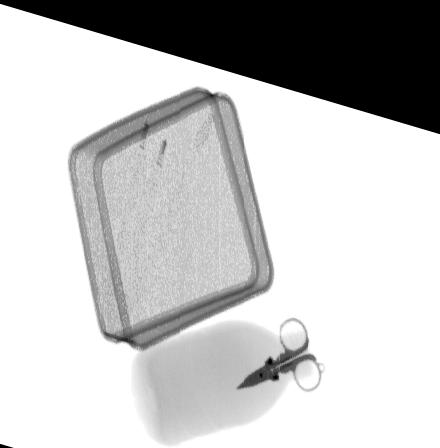Scissors: (236, 299, 322, 377)
